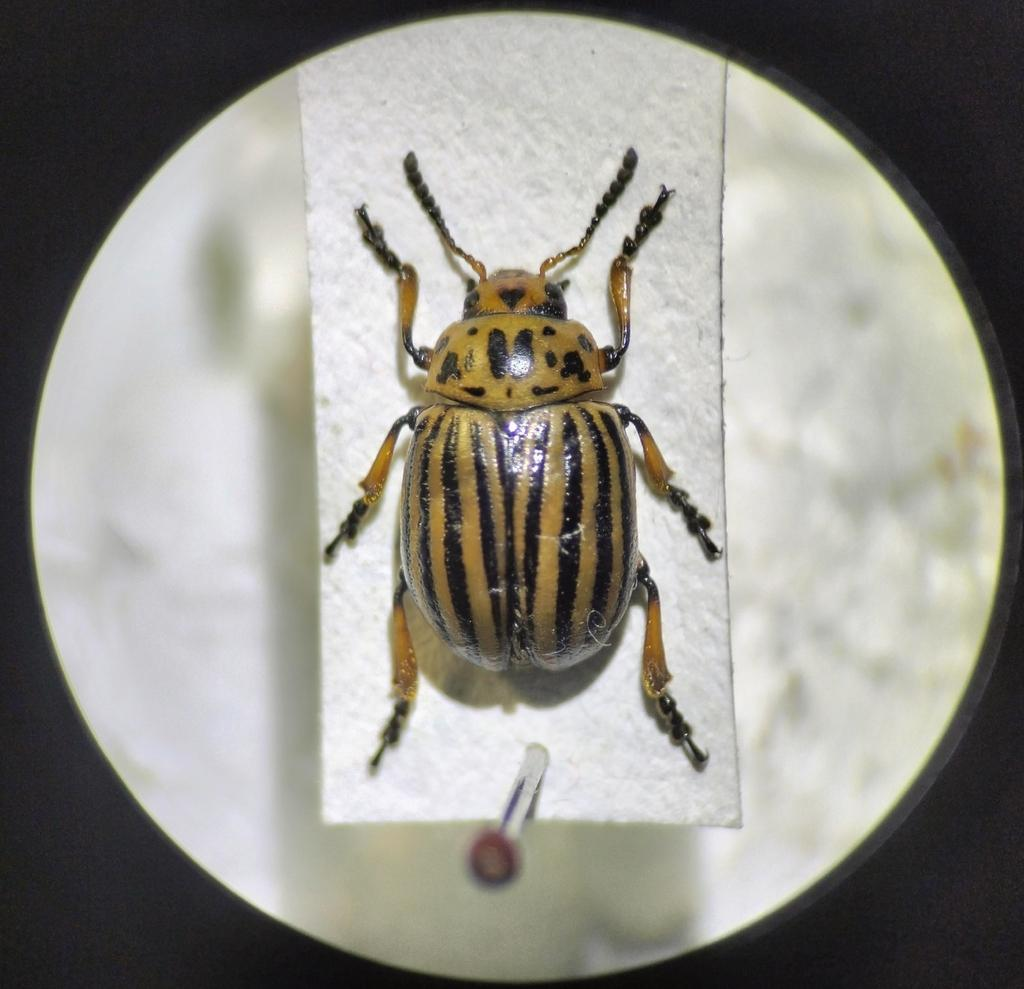potato_beetle: (236, 93, 809, 837)
